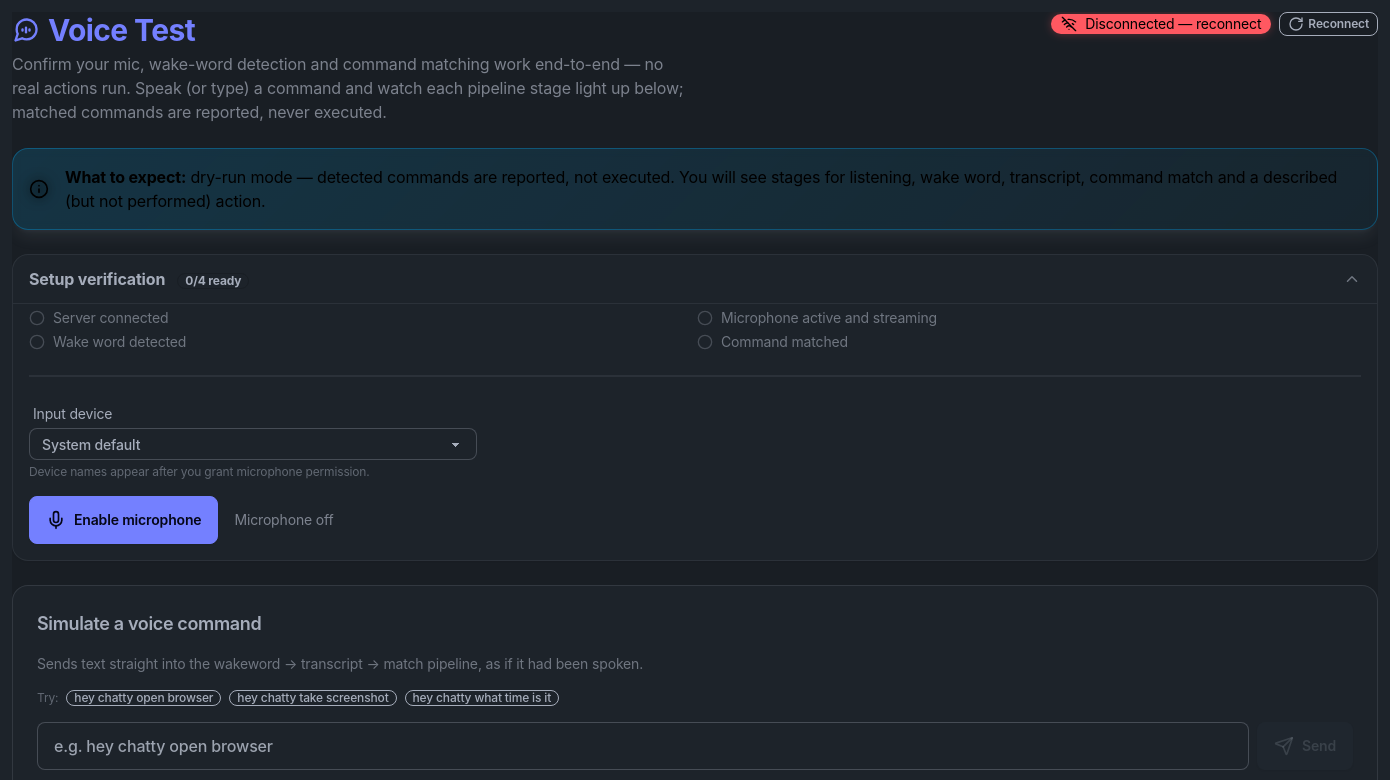
Scenario: VoiceTestPage › WebSocket close handling › manual reconnect button re-attempts the connection
Click the button with test id "voice-ws-reconnect": (1329, 24) [1279,12,1378,36]
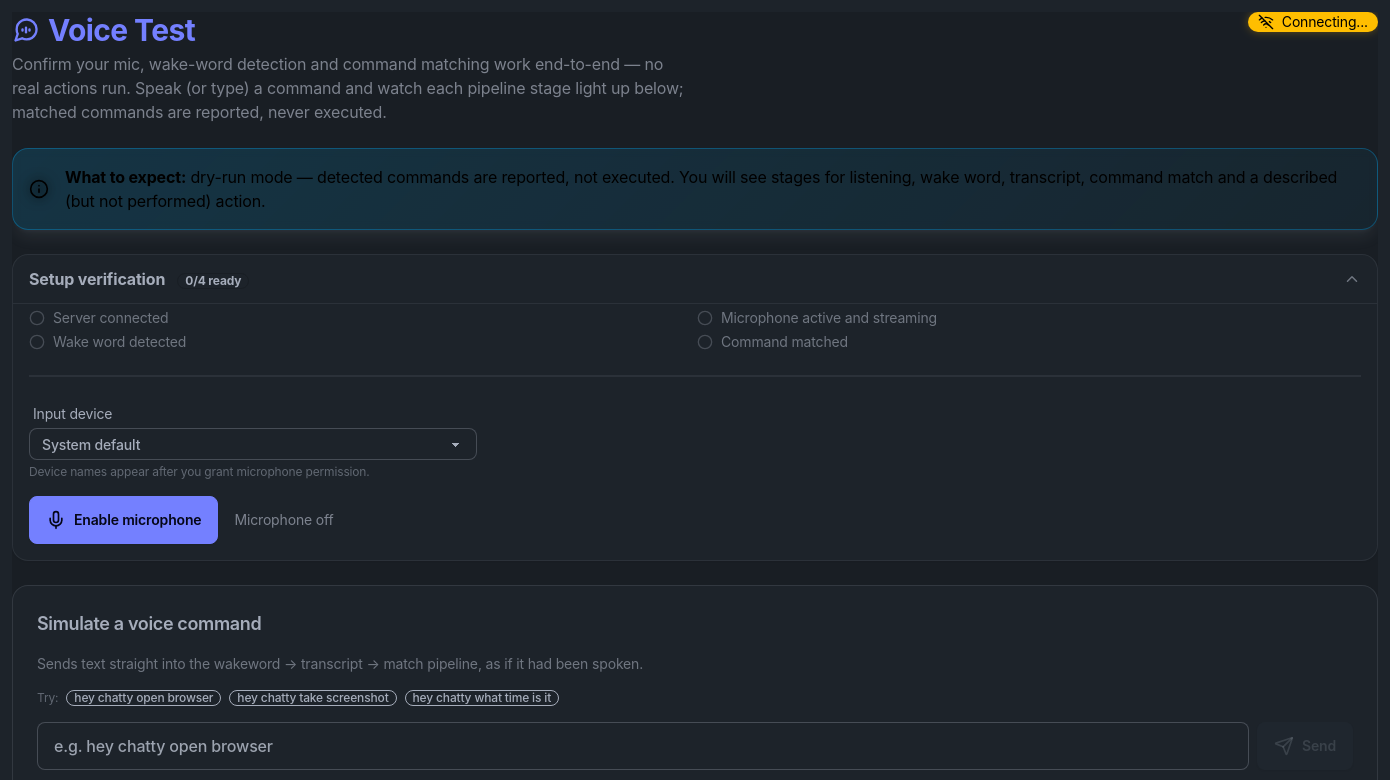
Expected: the element with test id "voice-ws-status" reads "Connecting...", [1282,13,1368,30]
